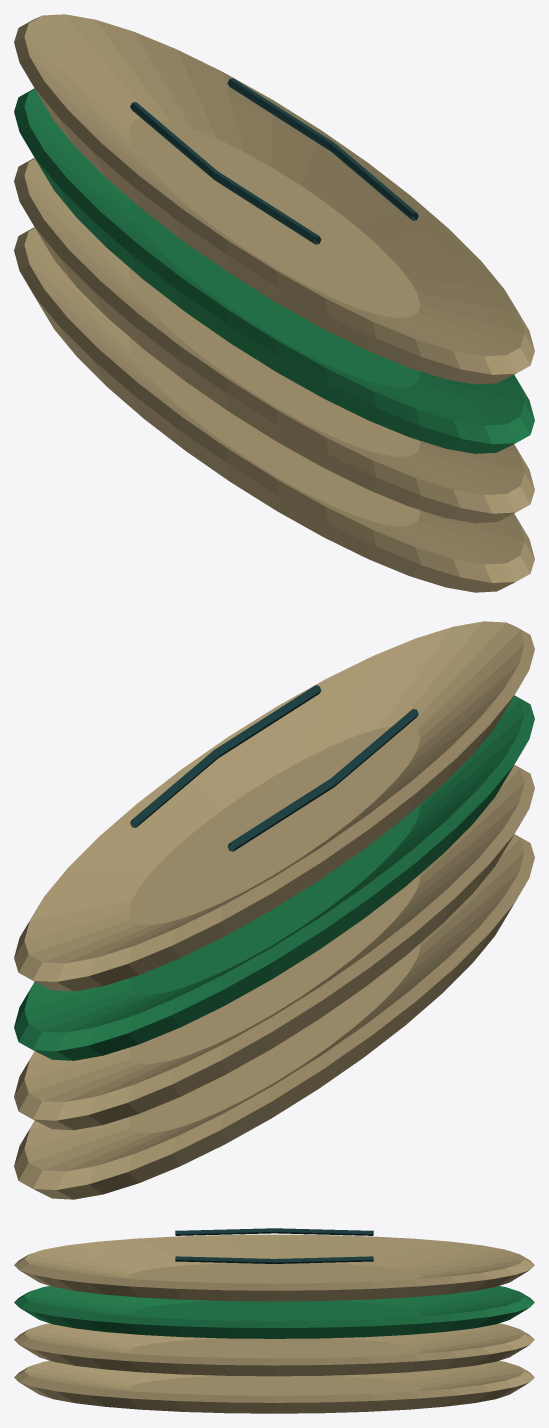
Rendered from panel_r5_restaurant_table_dishes.fbx.
3 renders of one model, top to bottom at view 1: azimuth 30°, elevation 25°; view 2: azimuth 150°, elevation 25°; view 3: azimuth 270°, elevation 25°, orthographic. The views are drawn at different scales.
Visible parts, largest first — view 1: Part_0; view 2: Part_0; view 3: Part_0.
Part boxes in pixels (bbox=[...]): Part_0: bbox=[14, 14, 534, 592]; Part_0: bbox=[14, 621, 534, 1199]; Part_0: bbox=[14, 1228, 534, 1413].
Size of the model in its own units: 0.65 by 0.9 by 2.8.
